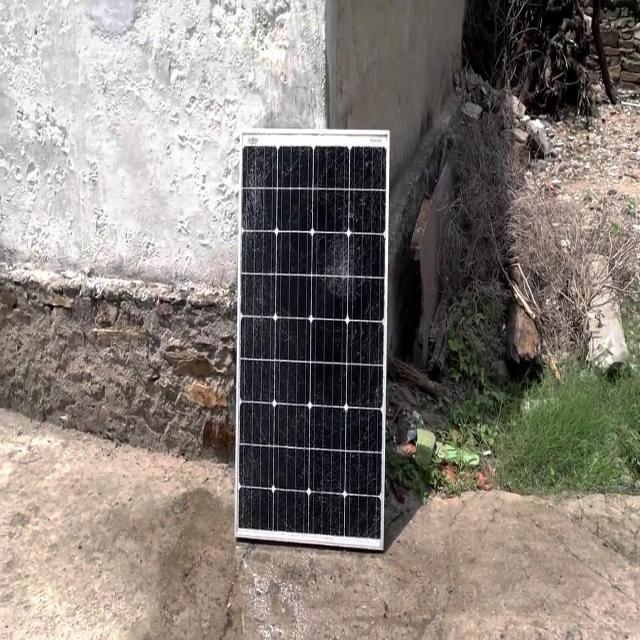faulty: (236, 140, 392, 544)
